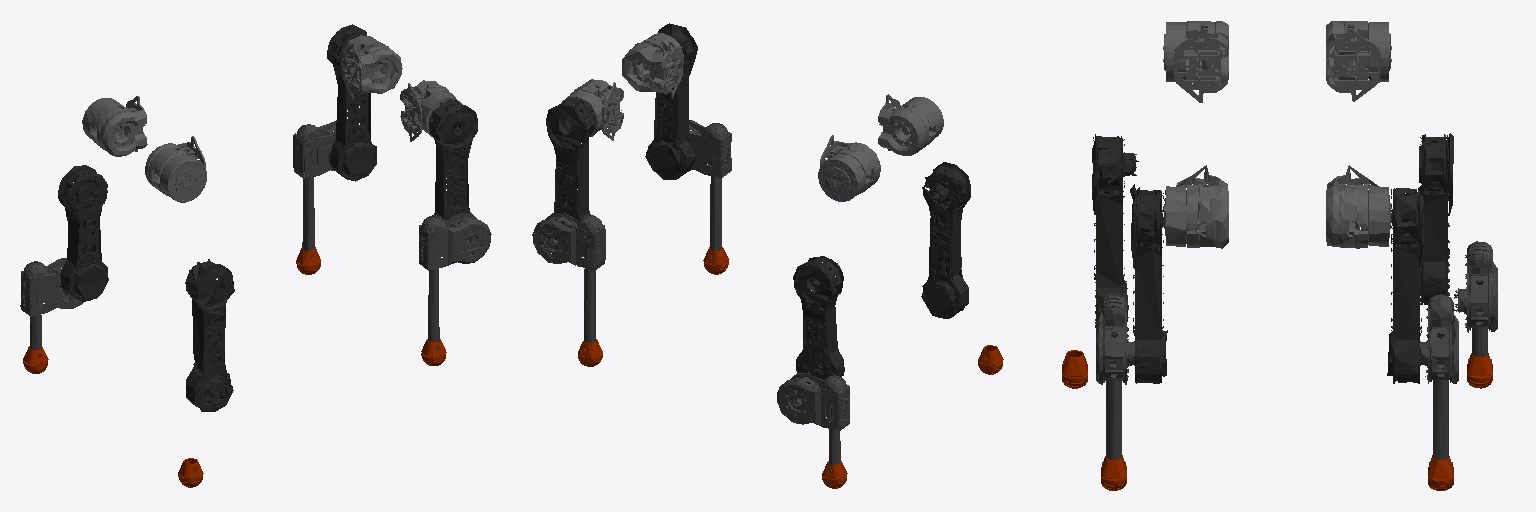
The robot description file, URDF, robot "anymal":
<?xml version="1.0" encoding="utf-8"?>
<!-- This URDF was automatically created by SolidWorks to URDF Exporter! Originally created by Stephen Brawner (brawner@gmail.com) 
     Commit Version: 1.6.0-4-g7f85cfe  Build Version: 1.6.7995.38578
     For more information, please see http://wiki.ros.org/sw_urdf_exporter -->
<robot name="anymal">
  <material name="orange">
    <color rgba="0.12 0.15 0.2 1.0"/>
  </material>
  <material name="red">
    <color rgba="0.6 0.2 0.0 1.0"/>
  </material>
  <material name="black">
    <color rgba="0.4 0.4 0.4 1.0"/>
  </material>
  <material name="black1">
    <color rgba="0.3 0.3 0.3 1.0"/>
  </material>
  <material name="black2">
    <color rgba="0.2 0.2 0.2 1.0"/>
  </material>
  <material name="black3">
    <color rgba="0.3 0.3 0.3 1.0"/>
  </material>
  <material name="silver">
    <color rgba="0.79216 0.81961 0.93333 1"/>
  </material>  
  <link
    name="base">
    <inertial>
      <origin
        xyz="0.003108 0.000061 0.008445"
        rpy="0 0 0" />
      <mass
        value="10.342" />
      <inertia
        ixx="131477391.556e-9"
        ixy="-35656.795e-9"
        ixz="257886.739e-9"
        iyy="328587491.167e-9"
        iyz="31766.975e-9"
        izz="423802600.524e-9" />
    </inertial>
    <visual>
      <origin
        xyz="0 0 0"
        rpy="0 0 0" />
      <geometry>
        <mesh
          filename="../meshes/base.dae" />
      </geometry>
      <material name="red"/>
    </visual>
    <collision>
      <origin
        xyz="0 0 0.02"
        rpy="0 0 0" />
      <geometry>
        <box size="0.5 0.25 0.2" />
      </geometry>
    </collision>
  </link>
  <link
    name="FL_SHOULDER">
    <inertial>
      <origin
        xyz="51.772e-3 21.258e-3 -0.161e-3"
        rpy="0 0 0" />
      <mass
        value="1.276" />
      <inertia
        ixx="1862413.216e-9"
        ixy="34307.720e-9"
        ixz="1836.088e-9"
        iyy="1745876.060e-9"
        iyz="127.529e-9"
        izz="1887209.589e-9" />
    </inertial>
    <visual>
      <origin
        xyz="0 0 0"
        rpy="0 0 0" />
      <geometry>
        <mesh
          filename="../meshes/FL_SHOULDER.dae" />
      </geometry>
      <material name="black"/>
    </visual>
    <collision>
      <origin
        xyz="0.054 0 0"
        rpy="0 0 0" />
      <geometry>
        <box size="0.1 0.1 0.1" />
      </geometry>
    </collision>
  </link>
  <joint
    name="FL_HAA"
    type="revolute">
    <origin
      xyz="0.2635 0.12291 0"
      rpy="0 0 0" />
    <parent
      link="base" />
    <child
      link="FL_SHOULDER" />
    <axis
      xyz="1 0 0" />
    <limit
      lower="-3.14"
      upper="3.14"
      effort="30"
      velocity="20" />
  </joint>
  <link
    name="FL_UPPER_LEG">
    <inertial>
      <origin
        xyz="0.009e-3 25.634e-3 -165.001e-3"
        rpy="0 0 0" />
      <mass
        value="1.367" />
      <inertia
        ixx="16273403.695e-9"
        ixy="-161.140e-9"
        ixz="12937.356e-9"
        iyy="16691309.192e-9"
        iyz="130585.208e-9"
        izz="1167540.754e-9" />
    </inertial>
    <visual>
      <origin
        xyz="0 0 0"
        rpy="0 0 0" />
      <geometry>
        <mesh
          filename="../meshes/FL_UPPER_LEG.dae" />
      </geometry>
      <material name="black2"/>
    </visual>
    <collision>
      <origin
        xyz="0 0.032 -0.1232"
        rpy="0 0 0" />
      <geometry>
        <box size="0.1 0.05 0.3" />
      </geometry>
    </collision>
  </link>
  <joint
    name="FL_HFE"
    type="revolute">
    <origin
      xyz="0.053259 0.061836 -0.0001687"
      rpy="0 0 0" />
    <parent
      link="FL_SHOULDER" />
    <child
      link="FL_UPPER_LEG" />
    <axis
      xyz="0 1 0" />
    <limit
      lower="-3.14"
      upper="3.14"
      effort="30"
      velocity="20" />
  </joint>
  <link
    name="FL_LOWERS_LEG">
    <inertial>
      <origin
        xyz="-41.308e-3 34.919e-3 -47.598e-3"
        rpy="0 0 0" />
      <mass
        value="0.759" />
      <inertia
        ixx="7966011.909e-9"
        ixy=" -9387.703e-9"
        ixz="1312983.562e-9"
        iyy="9247408.954e-9"
        iyz="-2373.514e-9"
        izz="1638567.052e-9" />
    </inertial>
    <visual>
      <origin
        xyz="0 0 0"
        rpy="0 0 0" />
      <geometry>
        <mesh
          filename="../meshes/FL_LOWER_LEG.dae" />
      </geometry>
      <material name="black3"/>
    </visual>
    <collision>
      <origin
        xyz="-0.0772 0.038 -0.075"
        rpy="0 0 0" />
      <geometry>
        <box size="0.0535 0.05 0.29" />
      </geometry>
    </collision>
  </link>
  <joint
    name="FL_KFE"
    type="revolute">
    <origin
      xyz="0 0.0465 -0.2465"
      rpy="0 0 0" />
    <parent
      link="FL_UPPER_LEG" />
    <child
      link="FL_LOWERS_LEG" />
    <axis
      xyz="0 1 0" />
    <limit
      lower="-3.14"
      upper="3.14"
      effort="30"
      velocity="20" />
  </joint>
  <link
    name="FL_FOOT">
    <inertial>
      <origin
        xyz="35.896e-3 -0.081e-3 186.367e-3"
        rpy="0 0 0" />
      <mass
        value="0.01" />
      <inertia
        ixx="7966011.909e-9"
        ixy="-9387.703e-9"
        ixz="1312983.562e-9"
        iyy="9247408.954e-9"
        iyz="-2373.514e-9"
        izz="1638567.052e-9" />
    </inertial>
    <visual>
      <origin
        xyz="0 0 0"
        rpy="0 0 0" />
      <geometry>
        <mesh
          filename="../meshes/FL_FOOT.dae" />
      </geometry>
      <material name="red"/>
    </visual>
    <collision>
      <origin
        xyz="0 0 0"
        rpy="0 0 0" />
      <geometry>
        <sphere radius="0.0267" />
      </geometry>
    </collision>
  </link>
  <joint
    name="FL_FOOT_joint"
    type="fixed">
    <origin
      xyz="-0.077204 0.035 -0.23396"
      rpy="0 0 0" />
    <parent
      link="FL_LOWERS_LEG" />
    <child
      link="FL_FOOT" />
    <axis
      xyz="0 0 0" />
  </joint>
  <link
    name="FR_SHOULDER">
    <inertial>
      <origin
        xyz="51.772e-3 -21.258e-3 -0.161e-3"
        rpy="0 0 0" />
      <mass
        value="1.276" />
      <inertia
        ixx="1862413.216e-9"
        ixy="-34307.720e-9"
        ixz="1836.088e-9"
        iyy="1745876.060e-9"
        iyz="-127.529e-9"
        izz="1887209.589e-9" />
    </inertial>
    <visual>
      <origin
        xyz="0 0 0"
        rpy="0 0 0" />
      <geometry>
        <mesh
          filename="../meshes/FR_SHOULDER.dae" />
      </geometry>
      <material name="black"/>
    </visual>
    <collision>
      <origin
        xyz="0.054 0 0"
        rpy="0 0 0" />
      <geometry>
        <box size="0.1 0.1 0.1" />
      </geometry>
    </collision>
  </link>
  <joint
    name="FR_HAA"
    type="revolute">
    <origin
      xyz="0.2635 -0.12291 0"
      rpy="0 0 0" />
    <parent
      link="base" />
    <child
      link="FR_SHOULDER" />
    <axis
      xyz="1 0 0" />
    <limit
      lower="-3.14"
      upper="3.14"
      effort="30"
      velocity="20" />
  </joint>
  <link
    name="FR_UPPER_LEG">
    <inertial>
      <origin
        xyz="0.009e-3 -25.634e-3 -165.001e-3"
        rpy="0 0 0" />
      <mass
        value="1.367" />
      <inertia
        ixx="16273403.695e-9"
        ixy="161.140e-9"
        ixz="12937.356e-9"
        iyy="16691309.192e-9"
        iyz="-130585.208e-9"
        izz="1167540.754e-9" />
    </inertial>
    <visual>
      <origin
        xyz="0 0 0"
        rpy="0 0 0" />
      <geometry>
        <mesh
          filename="../meshes/FR_UPPER_LEG.dae" />
      </geometry>
      <material name="black2"/>
    </visual>
    <collision>
      <origin
        xyz="0 -0.028 -0.1232"
        rpy="0 0 0" />
      <geometry>
        <box size="0.1 0.05 0.3" />
      </geometry>
    </collision>
  </link>
  <joint
    name="FR_HFE"
    type="revolute">
    <origin
      xyz="0.053259 -0.061836 9.9925E-05"
      rpy="0 0 0" />
    <parent
      link="FR_SHOULDER" />
    <child
      link="FR_UPPER_LEG" />
    <axis
      xyz="0 1 0" />
    <limit
      lower="-3.14"
      upper="3.14"
      effort="30"
      velocity="20" />
  </joint>
  <link
    name="FR_LOWERS_LEG">
    <inertial>
      <origin
        xyz="-41.308e-3 -34.919e-3 -47.598e-3"
        rpy="0 0 0" />
      <mass
        value="0.759" />
      <inertia
        ixx="7966011.909e-9"
        ixy=" 9387.703e-9"
        ixz="1312983.562e-9"
        iyy="9247408.954e-9"
        iyz="2373.514e-9"
        izz="1638567.052e-9" />
    </inertial>
    <visual>
      <origin
        xyz="0 0 0"
        rpy="0 0 0" />
      <geometry>
        <mesh
          filename="../meshes/FR_LOWER_LEG.dae" />
      </geometry>
      <material name="black3"/>
    </visual>
    <collision>
      <origin
        xyz="-0.0772 -0.038 -0.075"
        rpy="0 0 0" />
      <geometry>
        <box size="0.0535 0.05 0.29" />
      </geometry>
    </collision>
  </link>
  <joint
    name="FR_KFE"
    type="revolute">
    <origin
      xyz="0 -0.0465 -0.2465"
      rpy="0 0 0" />
    <parent
      link="FR_UPPER_LEG" />
    <child
      link="FR_LOWERS_LEG" />
    <axis
      xyz="0 1 0" />
    <limit
      lower="-3.14"
      upper="3.14"
      effort="30"
      velocity="20" />
  </joint>
  <link
    name="FR_FOOT">
    <inertial>
      <origin
        xyz="35.896e-3 0.081e-3 186.367e-3"
        rpy="0 0 0" />
      <mass
        value="0.01" />
      <inertia
        ixx="7966011.909e-9"
        ixy="9387.703e-9"
        ixz="1312983.562e-9"
        iyy="9247408.954e-9"
        iyz="2373.514e-9"
        izz="1638567.052e-9" />
    </inertial>
    <visual>
      <origin
        xyz="0 0 0"
        rpy="0 0 0" />
      <geometry>
        <mesh
          filename="../meshes/FR_FOOT.dae" />
      </geometry>
      <material name="red"/>
    </visual>
    <collision>
      <origin
        xyz="0 0 0"
        rpy="0 0 0" />
      <geometry>
        <sphere radius="0.0267" />
      </geometry>
    </collision>
  </link>
  <joint
    name="FR_FOOT_joint"
    type="fixed">
    <origin
      xyz="-0.07715 -0.035 -0.23396"
      rpy="0 0 0" />
    <parent
      link="FR_LOWERS_LEG" />
    <child
      link="FR_FOOT" />
    <axis
      xyz="0 0 0" />
  </joint>
  <link
    name="HL_SHOULDER">
    <inertial>
      <origin
        xyz="-51.779e-3 21.258e-3 0.042e-3"
        rpy="0 0 0" />
      <mass
        value="1.276" />
      <inertia
        ixx="1862438.249e-9"
        ixy="-34011.999e-9"
        ixz="-510.439e-9"
        iyy="1745191.990e-9"
        iyz="-556.317e-9"
        izz="1886523.749e-9" />
    </inertial>
    <visual>
      <origin
        xyz="0 0 0"
        rpy="0 0 0" />
      <geometry>
        <mesh
          filename="../meshes/HL_SHOULDER.dae" />
      </geometry>
      <material name="black"/>
    </visual>
    <collision>
      <origin
        xyz="-0.054 0 0"
        rpy="0 0 0" />
      <geometry>
        <box size="0.1 0.1 0.1" />
      </geometry>
    </collision>
  </link>
  <joint
    name="HL_HAA"
    type="revolute">
    <origin
      xyz="-0.2635 0.12291 0"
      rpy="0 0 0" />
    <parent
      link="base" />
    <child
      link="HL_SHOULDER" />
    <axis
      xyz="1 0 0" />
    <limit
      lower="-3.14"
      upper="3.14"
      effort="30"
      velocity="20" />
  </joint>
  <link
    name="HL_EXTRA_LEG">
    <inertial>
      <origin
        xyz="0.003e-3 25.470e-3 -134.787e-3"
        rpy="0 0 0" />
      <mass
        value="1.315" />
      <inertia
        ixx="11053712.614e-9"
        ixy="-166.896e-9"
        ixz="13255.147e-9"
        iyy="11463665.170e-9"
        iyz="105489.550e-9"
        izz="1146965.026e-9" />
    </inertial>
    <visual>
      <origin
        xyz="0 0 0"
        rpy="0 0 0" />
      <geometry>
        <mesh
          filename="../meshes/HL_EXTRA_LEG.dae" />
      </geometry>
      <material name="black1"/>
    </visual>
    <collision>
      <origin
        xyz="0 0.028 -0.1005"
        rpy="0 0 0" />
      <geometry>
        <box size="0.1 0.05 0.301" />
      </geometry>
    </collision>
  </link>
  <joint
    name="HL_EXTRA"
    type="revolute">
    <origin
      xyz="-0.053259 0.061836 9.9925E-05"
      rpy="0 0 0" />
    <parent
      link="HL_SHOULDER" />
    <child
      link="HL_EXTRA_LEG" />
    <axis
      xyz="0 1 0" />
    <limit
      lower="-3.14"
      upper="3.14"
      effort="30"
      velocity="20" />
  </joint>
  <link
    name="HL_UPPER_LEG">
    <inertial>
      <origin
        xyz=" 0.005e-3 41.724e-3 -160.773e-3"
        rpy="0 0 0" />
      <mass
        value="1.406" />
      <inertia
        ixx="17322697.149e-9"
        ixy="-166.299e-9"
        ixz="13745.847e-9"
        iyy="17702007.589e-9"
        iyz=" -74976.358e-9"
        izz="1218582.595e-9" />
    </inertial>
    <visual>
      <origin
        xyz="0 0 0"
        rpy="0 0 0" />
      <geometry>
        <mesh
          filename="../meshes/HL_UPPER_LEG.dae" />
      </geometry>
      <material name="black2"/>
    </visual>
    <collision>
      <origin
        xyz="0 0.045 -0.1233"
        rpy="0 0 0" />
      <geometry>
        <box size="0.06 0.05 0.35" />
      </geometry>
    </collision>
  </link>
  <joint
    name="HL_HFE"
    type="revolute">
    <origin
      xyz="0 0.0465 -0.201"
      rpy="0 0 0" />
    <parent
      link="HL_EXTRA_LEG" />
    <child
      link="HL_UPPER_LEG" />
    <axis
      xyz="0 1 0" />
    <limit
      lower="-3.14"
      upper="3.14"
      effort="30"
      velocity="20" />
  </joint>
  <link
    name="HL_LOWERS_LEG">
    <inertial>
      <origin
        xyz="-40.122e-3 34.916e-3 -27.409e-3"
        rpy="0 0 0" />
      <mass
        value="0.734" />
      <inertia
        ixx="3597127.046e-9"
        ixy="-9314.367e-9"
        ixz="762796.820e-9"
        iyy="4846202.923e-9"
        iyz="-1133.290e-9"
        izz="1602960.774e-9" />
    </inertial>
    <visual>
      <origin
        xyz="0 0 0"
        rpy="0 0 0" />
      <geometry>
        <mesh
          filename="../meshes/HL_LOWER_LEG.dae" />
      </geometry>
      <material name="black3"/>
    </visual>
    <collision>
      <origin
        xyz="-0.0772 0.038 -0.03"
        rpy="0 0 0" />
      <geometry>
        <box size="0.0535 0.05 0.2" />
      </geometry>
    </collision>
  </link>
  <joint
    name="HL_KFE"
    type="revolute">
    <origin
      xyz="0 0.0635 -0.2465"
      rpy="0 0 0" />
    <parent
      link="HL_UPPER_LEG" />
    <child
      link="HL_LOWERS_LEG" />
    <axis
      xyz="0 1 0" />
    <limit
      lower="-3.14"
      upper="3.14"
      effort="30"
      velocity="20" />
  </joint>
  <link
    name="HL_FOOT">
    <inertial>
      <origin
        xyz="37.082e-3 -0.084e-3 116.555e-3"
        rpy="0 0 0" />
      <mass
        value="0.01" />
      <inertia
        ixx="3597127.046e-9"
        ixy="-9314.367e-9"
        ixz="762796.820e-9"
        iyy="4846202.923e-9"
        iyz="-1133.290e-9"
        izz="1602960.774e-9" />
    </inertial>
    <visual>
      <origin
        xyz="0 0 0"
        rpy="0 0 0" />
      <geometry>
        <mesh
          filename="../meshes/HL_FOOT.dae" />
      </geometry>
      <material name="red"/>
    </visual>
    <collision>
      <origin
        xyz="0 0 0"
        rpy="0 0 0" />
      <geometry>
        <sphere radius="0.0267" />
      </geometry>
    </collision>
  </link>
  <joint
    name="HL_FOOT_joint"
    type="fixed">
    <origin
      xyz="-0.077204 0.035 -0.14396"
      rpy="0 0 0" />
    <parent
      link="HL_LOWERS_LEG" />
    <child
      link="HL_FOOT" />
    <axis
      xyz="0 0 0" />
  </joint>
  <link
    name="HR_SHOULDER">
    <inertial>
      <origin
        xyz="-51.779e-3 -21.258e-3 0.042e-3"
        rpy="0 0 0" />
      <mass
        value="1.276" />
      <inertia
        ixx="1862438.249e-9"
        ixy="34011.999e-9"
        ixz="-510.439e-9"
        iyy="1745191.990e-9"
        iyz="556.317e-9"
        izz="1886523.749e-9" />
    </inertial>
    <visual>
      <origin
        xyz="0 0 0"
        rpy="0 0 0" />
      <geometry>
        <mesh
          filename="../meshes/HR_SHOULDER.dae" />
      </geometry>
      <material name="black"/>
    </visual>
    <collision>
      <origin
        xyz="-0.054 0 0"
        rpy="0 0 0" />
      <geometry>
        <box size="0.1 0.1 0.1" />
      </geometry>
    </collision>
  </link>
  <joint
    name="HR_HAA"
    type="revolute">
    <origin
      xyz="-0.2635 -0.12291 0"
      rpy="0 0 0" />
    <parent
      link="base" />
    <child
      link="HR_SHOULDER" />
    <axis
      xyz="1 0 0" />
    <limit
      lower="-3.14"
      upper="3.14"
      effort="30"
      velocity="20" />
  </joint>
  <link
    name="HR_EXTRA_LEG">
    <inertial>
      <origin
        xyz="0.003e-3 -25.470e-3 -134.787e-3"
        rpy="0 0 0" />
      <mass
        value="1.315" />
      <inertia
        ixx="11053712.614e-9"
        ixy="166.896e-9"
        ixz="13255.147e-9"
        iyy="11463665.170e-9"
        iyz="-105489.550e-9"
        izz="1146965.026e-9" />
    </inertial>
    <visual>
      <origin
        xyz="0 0 0"
        rpy="0 0 0" />
      <geometry>
        <mesh
          filename="../meshes/HR_EXTRA_LEG.dae" />
      </geometry>
      <material name="black1"/>
    </visual>
    <collision>
      <origin
        xyz="0 -0.028 -0.1005"
        rpy="0 0 0" />
      <geometry>
        <box size="0.1 0.05 0.301" />
      </geometry>
    </collision>
  </link>
  <joint
    name="HR_EXTRA"
    type="revolute">
    <origin
      xyz="-0.053259 -0.061836 -0.0001687"
      rpy="0 0 0" />
    <parent
      link="HR_SHOULDER" />
    <child
      link="HR_EXTRA_LEG" />
    <axis
      xyz="0 1 0" />
    <limit
      lower="-3.14"
      upper="3.14"
      effort="30"
      velocity="20" />
  </joint>
  <link
    name="HR_UPPER_LEG">
    <inertial>
      <origin
        xyz="-40.122e-3 -34.916e-3 -27.409e-3"
        rpy="0 0 0" />
      <mass
        value="0.734" />
      <inertia
        ixx="3597127.046e-9"
        ixy="9314.367e-9"
        ixz="762796.820e-9"
        iyy="4846202.923e-9"
        iyz="1133.290e-9"
        izz="1602960.774e-9" />
    </inertial>
    <visual>
      <origin
        xyz="0 0 0"
        rpy="0 0 0" />
      <geometry>
        <mesh
          filename="../meshes/HR_UPPER_LEG.dae" />
      </geometry>
      <material name="black2"/>
    </visual>
    <collision>
      <origin
        xyz="0 -0.045 -0.1232"
        rpy="0 0 0" />
      <geometry>
        <box size="0.06 0.05 0.35" />
      </geometry>
    </collision>
  </link>
  <joint
    name="HR_HFE"
    type="revolute">
    <origin
      xyz="0 -0.0465 -0.201"
      rpy="0 0 0" />
    <parent
      link="HR_EXTRA_LEG" />
    <child
      link="HR_UPPER_LEG" />
    <axis
      xyz="0 1 0" />
    <limit
      lower="-3.14"
      upper="3.14"
      effort="30"
      velocity="20" />
  </joint>
  <link
    name="HR_LOWERS_LEG">
    <inertial>
      <origin
        xyz="-40.122e-3 -34.916e-3 -27.409e-3"
        rpy="0 0 0" />
      <mass
        value="0.734" />
      <inertia
        ixx="3597127.046e-9"
        ixy="9314.367e-9"
        ixz="762796.820e-9"
        iyy="4846202.923e-9"
        iyz="1133.290e-9"
        izz="1602960.774e-9" />
    </inertial>
    <visual>
      <origin
        xyz="0 0 0"
        rpy="0 0 0" />
      <geometry>
        <mesh
          filename="../meshes/HR_LOWER_LEG.dae" />
      </geometry>
      <material name="black3"/>
    </visual>
    <collision>
      <origin
        xyz="-0.0772 -0.038 -0.03"
        rpy="0 0 0" />
      <geometry>
        <box size="0.0535 0.05 0.2" />
      </geometry>
    </collision>
  </link>
  <joint
    name="HR_KFE"
    type="revolute">
    <origin
      xyz="0 -0.0635 -0.2465"
      rpy="0 0 0" />
    <parent
      link="HR_UPPER_LEG" />
    <child
      link="HR_LOWERS_LEG" />
    <axis
      xyz="0 1 0" />
    <limit
      lower="-3.14"
      upper="3.14"
      effort="30"
      velocity="20" />
  </joint>
  <link
    name="HR_FOOT">
    <inertial>
      <origin
        xyz="37.082e-3 0.084e-3 116.555e-3"
        rpy="0 0 0" />
      <mass
        value="0.01" />
      <inertia
        ixx="3597127.046e-9"
        ixy="9314.367e-9"
        ixz="762796.820e-9"
        iyy="4846202.923e-9"
        iyz="1133.290e-9"
        izz="1602960.774e-9" />
    </inertial>
    <visual>
      <origin
        xyz="0 0 0"
        rpy="0 0 0" />
      <geometry>
        <mesh
          filename="../meshes/HR_FOOT.dae" />
      </geometry>
      <material name="red"/>
    </visual>
    <collision>
      <origin
        xyz="0 0 0"
        rpy="0 0 0" />
      <geometry>
        <sphere radius="0.0267" />
      </geometry>
    </collision>
  </link>
  <joint
    name="HR_FOOT_joint"
    type="fixed">
    <origin
      xyz="-0.077203 -0.035 -0.14396"
      rpy="0 0 0" />
    <parent
      link="HR_LOWERS_LEG" />
    <child
      link="HR_FOOT" />
    <axis
      xyz="0 0 0" />
  </joint>
</robot>

--- Render facts (derived) ---
Views: 3 orthographic renders of the robot side by side, from view 1: azimuth 30°, elevation 25°; view 2: azimuth 150°, elevation 25°; view 3: azimuth 270°, elevation 25°.
Model anymal with 19 links and 18 joints (14 revolute, 4 fixed), rooted at base, posed all joints at 0.
Links seen in each view (by area): view 1: HR_UPPER_LEG, HL_UPPER_LEG, FR_UPPER_LEG, FL_UPPER_LEG, FR_LOWERS_LEG, HL_SHOULDER, HR_SHOULDER, FL_SHOULDER, FL_LOWERS_LEG, HL_LOWERS_LEG, FR_SHOULDER, HR_FOOT; view 2: HR_UPPER_LEG, HL_UPPER_LEG, FL_UPPER_LEG, FL_LOWERS_LEG, FR_UPPER_LEG, HL_LOWERS_LEG, HR_SHOULDER, HL_SHOULDER, FR_SHOULDER, FR_LOWERS_LEG, FL_SHOULDER, HR_FOOT; view 3: FL_UPPER_LEG, FR_UPPER_LEG, HR_UPPER_LEG, HL_UPPER_LEG, HR_SHOULDER, HL_SHOULDER, FR_SHOULDER, FL_SHOULDER, FR_LOWERS_LEG, FL_LOWERS_LEG, HL_LOWERS_LEG, HR_FOOT (+3 smaller).
Boxes of the visible links, x1=… form: HR_UPPER_LEG: x1=185, y1=259, x2=234, y2=411; HL_UPPER_LEG: x1=58, y1=165, x2=108, y2=301; FR_UPPER_LEG: x1=428, y1=99, x2=477, y2=223; FL_UPPER_LEG: x1=327, y1=24, x2=376, y2=181; FR_LOWERS_LEG: x1=419, y1=213, x2=491, y2=349; HL_SHOULDER: x1=82, y1=96, x2=147, y2=156; HR_SHOULDER: x1=145, y1=136, x2=206, y2=202; FL_SHOULDER: x1=341, y1=35, x2=402, y2=98; FL_LOWERS_LEG: x1=293, y1=120, x2=347, y2=257; HL_LOWERS_LEG: x1=20, y1=258, x2=83, y2=357; FR_SHOULDER: x1=400, y1=80, x2=462, y2=141; HR_FOOT: x1=178, y1=458, x2=203, y2=487; HR_UPPER_LEG: x1=921, y1=162, x2=970, y2=318; HL_UPPER_LEG: x1=793, y1=256, x2=844, y2=383; FL_UPPER_LEG: x1=546, y1=99, x2=595, y2=222; FL_LOWERS_LEG: x1=532, y1=213, x2=605, y2=349; FR_UPPER_LEG: x1=645, y1=23, x2=697, y2=179; HL_LOWERS_LEG: x1=777, y1=373, x2=849, y2=471; HR_SHOULDER: x1=878, y1=94, x2=943, y2=155; HL_SHOULDER: x1=818, y1=135, x2=880, y2=201; FR_SHOULDER: x1=622, y1=33, x2=683, y2=98; FR_LOWERS_LEG: x1=689, y1=120, x2=731, y2=257; FL_SHOULDER: x1=562, y1=79, x2=623, y2=140; HR_FOOT: x1=978, y1=345, x2=1003, y2=374; FL_UPPER_LEG: x1=1387, y1=186, x2=1423, y2=383; FR_UPPER_LEG: x1=1130, y1=184, x2=1167, y2=383; HR_UPPER_LEG: x1=1092, y1=134, x2=1138, y2=327; HL_UPPER_LEG: x1=1419, y1=133, x2=1453, y2=304; HR_SHOULDER: x1=1163, y1=21, x2=1228, y2=102; HL_SHOULDER: x1=1326, y1=21, x2=1391, y2=101; FR_SHOULDER: x1=1163, y1=165, x2=1228, y2=248; FL_SHOULDER: x1=1326, y1=165, x2=1391, y2=248; FR_LOWERS_LEG: x1=1096, y1=294, x2=1134, y2=465; FL_LOWERS_LEG: x1=1419, y1=294, x2=1458, y2=464; HL_LOWERS_LEG: x1=1454, y1=241, x2=1497, y2=362; HR_FOOT: x1=1062, y1=350, x2=1087, y2=388.
Bounding box of the posed robot: 0.7895 × 0.7109 × 0.7065 m (x, y, z).
Meshes: 19 distinct files referenced, 15 mesh visuals loaded (15 Collada DAE); not drawn: 4 (reference not matched to a file when rendering).
